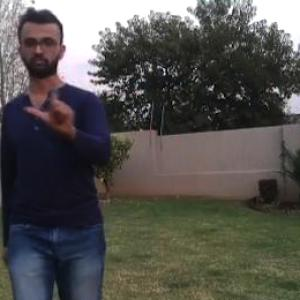land_hand: (22, 63, 77, 130)
